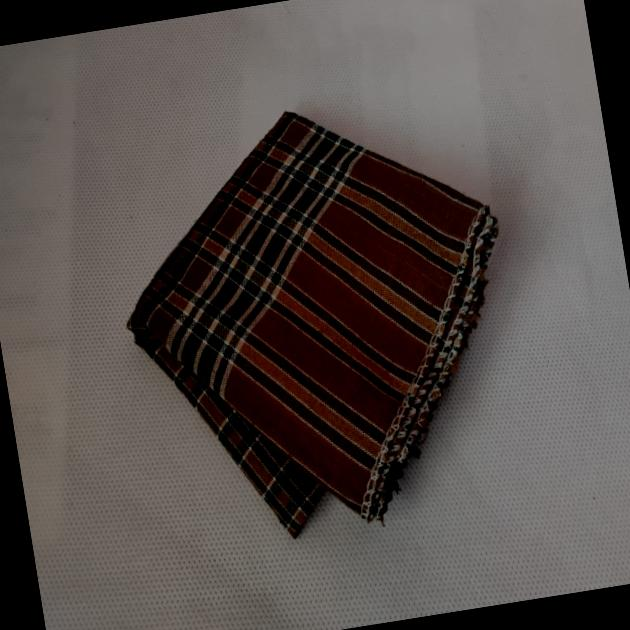kerchief: (93, 121, 574, 571)
